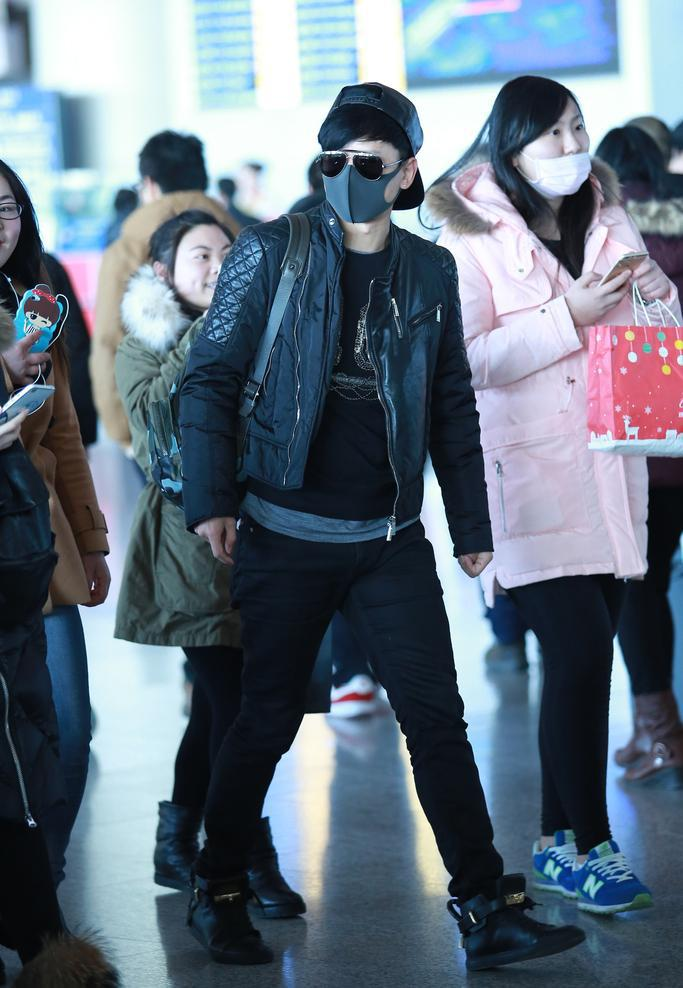NONE: (184, 239, 241, 306)
OK: (324, 144, 394, 231)
WRONG: (521, 115, 597, 191)
